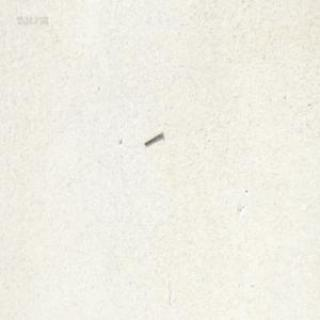Bolttrack_idkeyframe: (143, 129, 162, 145)
